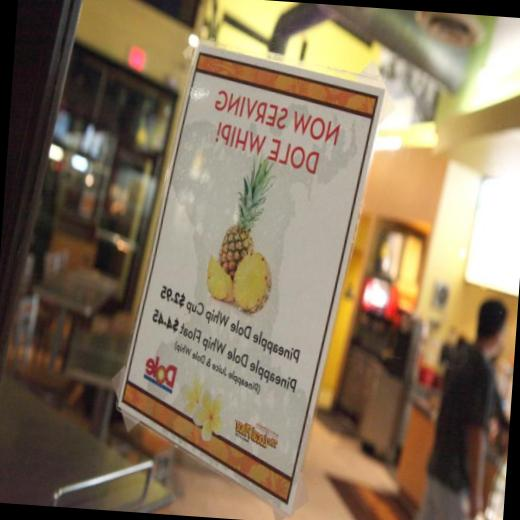Mango: (214, 146, 280, 283), (228, 249, 273, 318), (202, 254, 236, 300)
